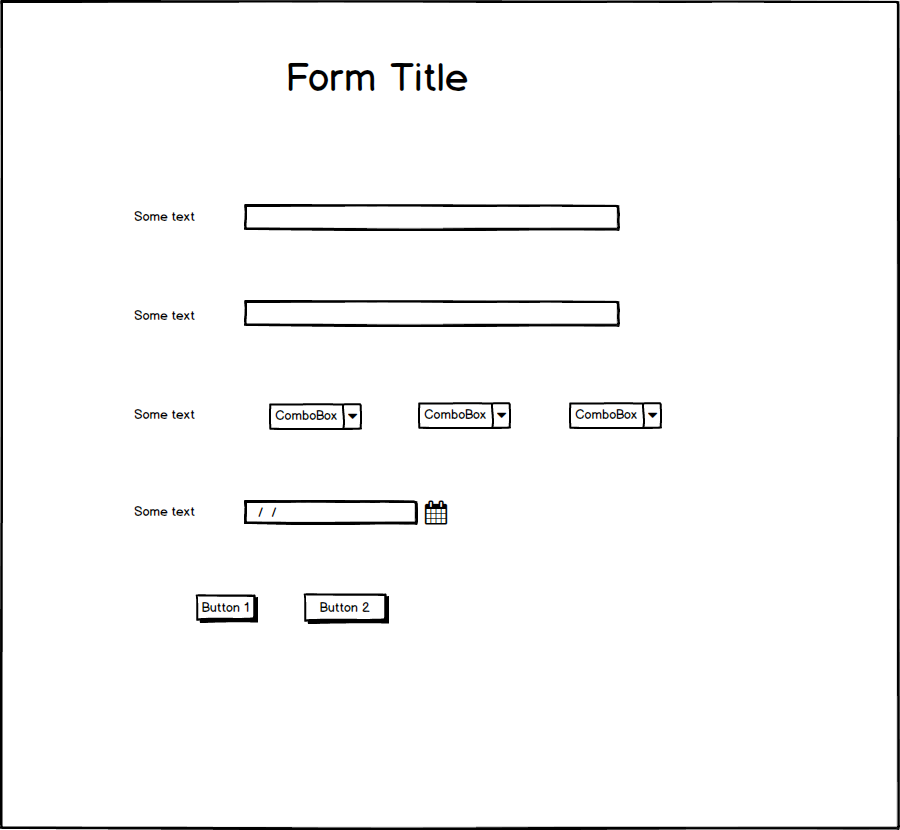button: (303, 588, 396, 626), (192, 588, 265, 626)
date_picker: (239, 493, 454, 534)
h1: (271, 54, 474, 99)
input: (240, 295, 627, 334), (237, 200, 632, 238)
label: (127, 399, 208, 431), (132, 197, 198, 230), (130, 497, 202, 526), (128, 304, 203, 328)
select_box: (412, 392, 518, 434), (265, 397, 368, 437), (561, 396, 666, 434)
